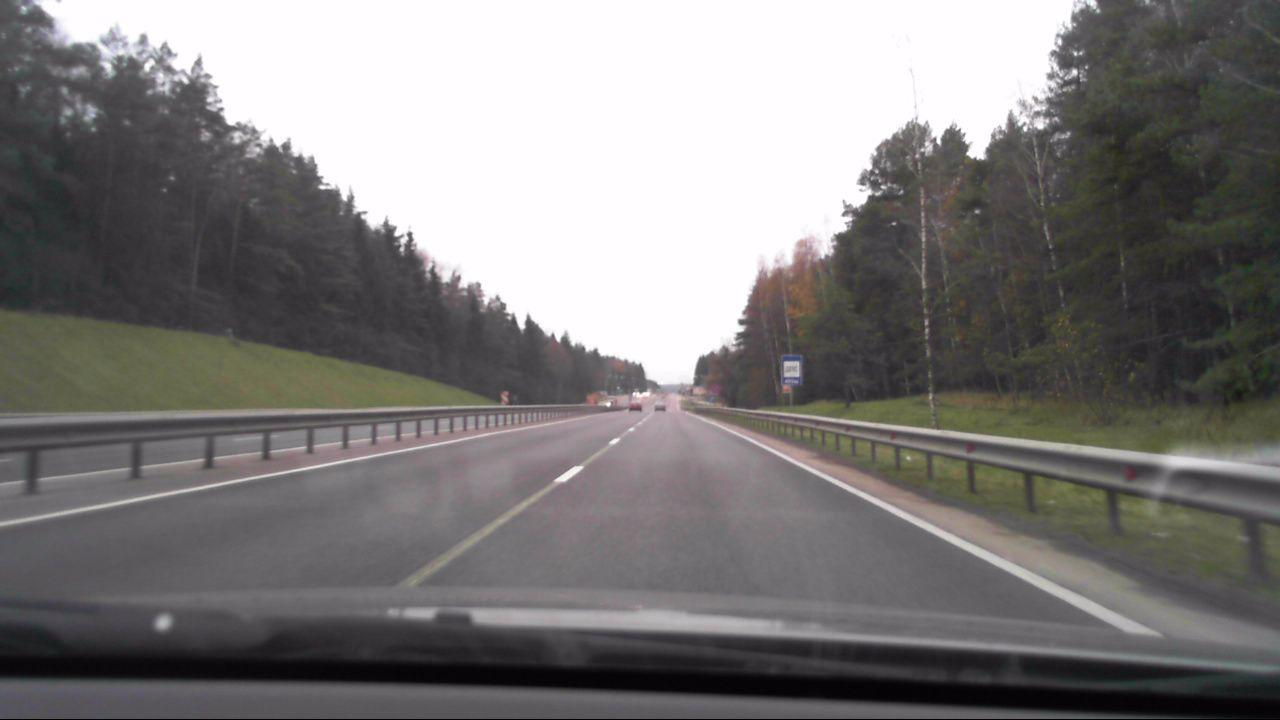7_12: (781, 355, 804, 386)
